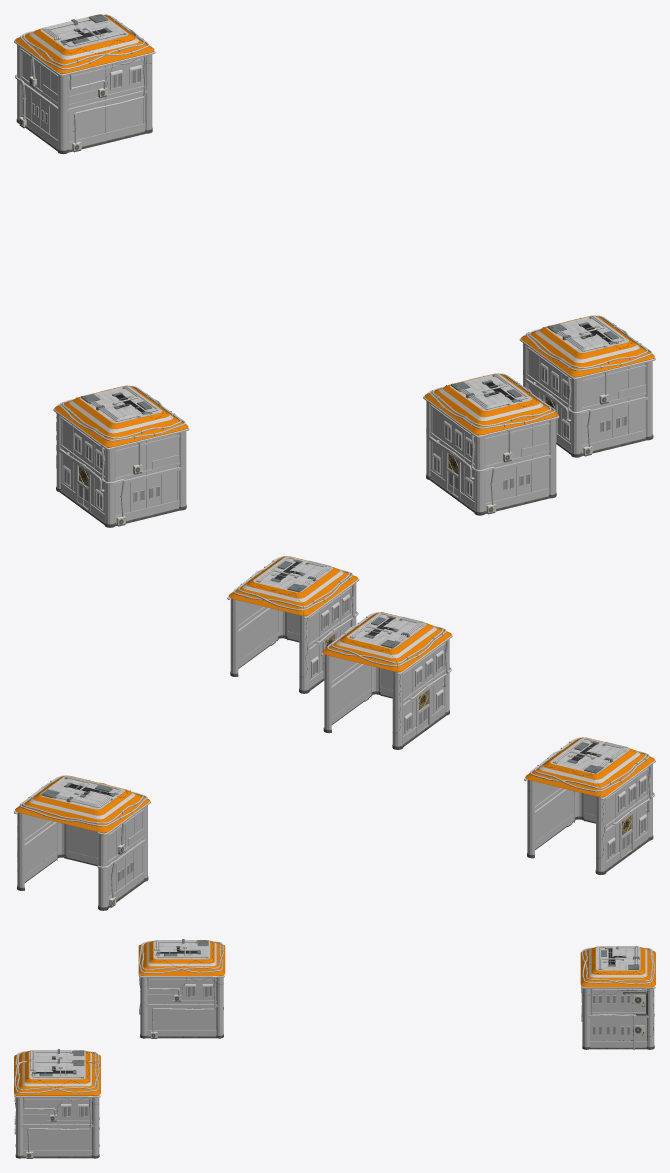
File: MERGED_SM_ENV_KNVLLG_CommonBuilding_B_1.mo.fbx
The picture shows the model from 3 angles, top to bottom: view 1: azimuth 30°, elevation 25°; view 2: azimuth 150°, elevation 25°; view 3: azimuth 270°, elevation 25°; orthographic projection. The views are drawn at different scales.
Visible parts, largest first — view 1: MERGED_SM_ENV_KNVLLG_CommonBuilding_B_1.mo; view 2: MERGED_SM_ENV_KNVLLG_CommonBuilding_B_1.mo; view 3: MERGED_SM_ENV_KNVLLG_CommonBuilding_B_1.mo.
Part boxes in pixels (x1=…): MERGED_SM_ENV_KNVLLG_CommonBuilding_B_1.mo: x1=14, y1=14, x2=655, y2=527; MERGED_SM_ENV_KNVLLG_CommonBuilding_B_1.mo: x1=14, y1=556, x2=655, y2=910; MERGED_SM_ENV_KNVLLG_CommonBuilding_B_1.mo: x1=14, y1=939, x2=655, y2=1158.
Bounding box in the file's own units: 73 × 30.37 × 111.
